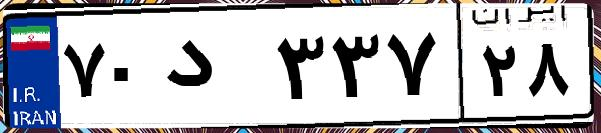0: (110, 28, 158, 98)
2: (475, 38, 525, 113)
3: (270, 28, 330, 110), (330, 28, 385, 110)
7: (385, 28, 445, 110), (57, 26, 110, 100)
8: (525, 38, 570, 115)
د: (158, 20, 270, 120)
